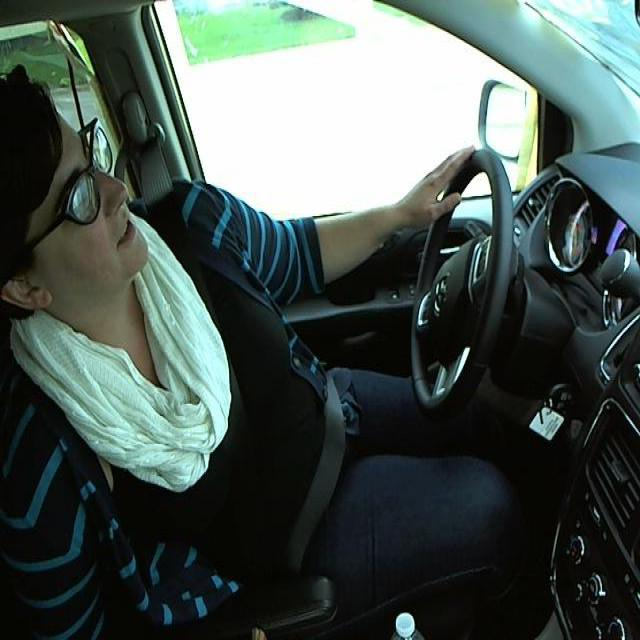seatbelt: (200, 397, 302, 572)
